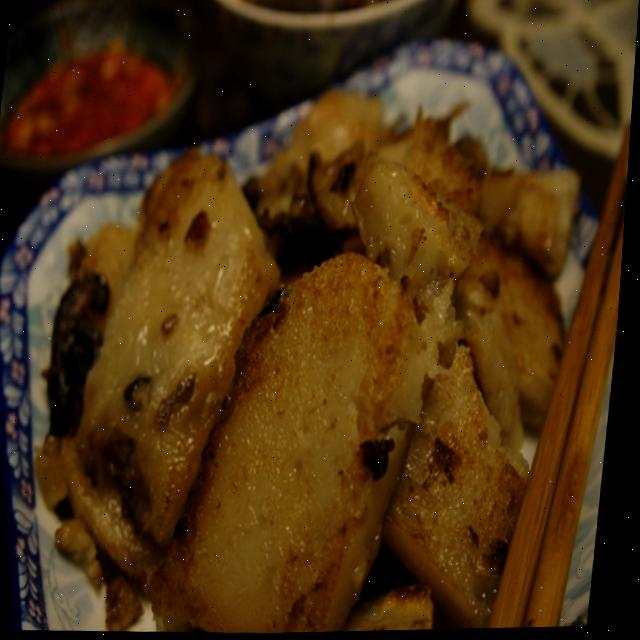蛋糕甜品: (27, 64, 611, 619)
